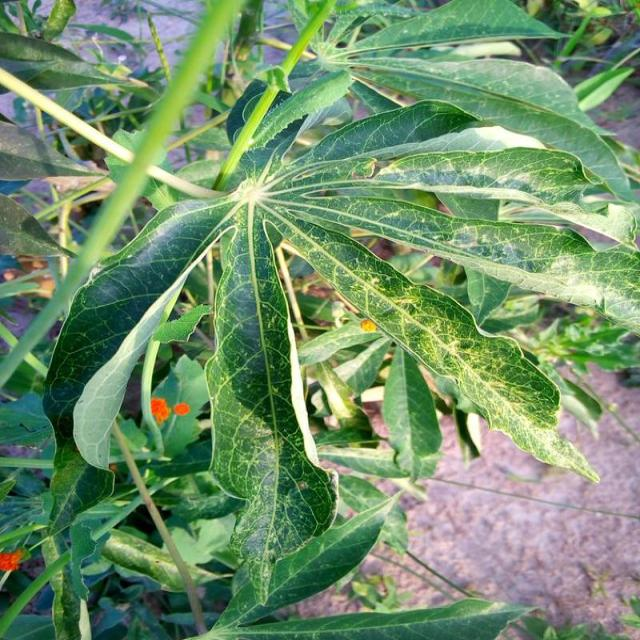cassava leaf: (35, 6, 638, 632), (204, 195, 338, 605)
